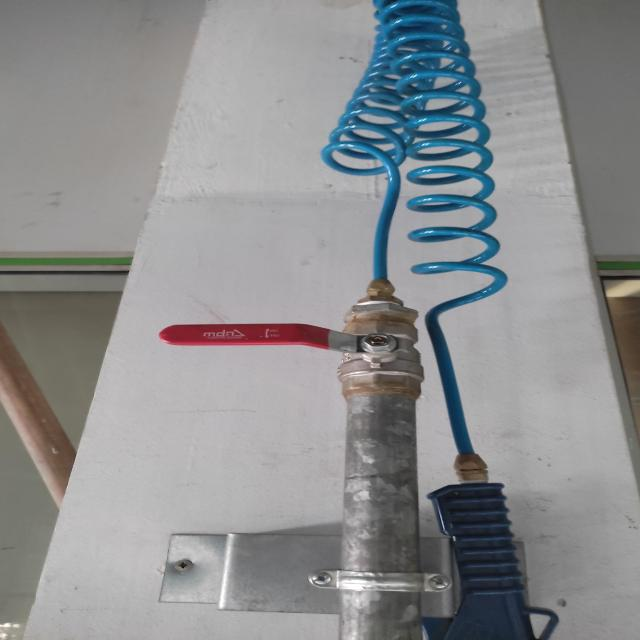closed_valve: (157, 316, 427, 395)
